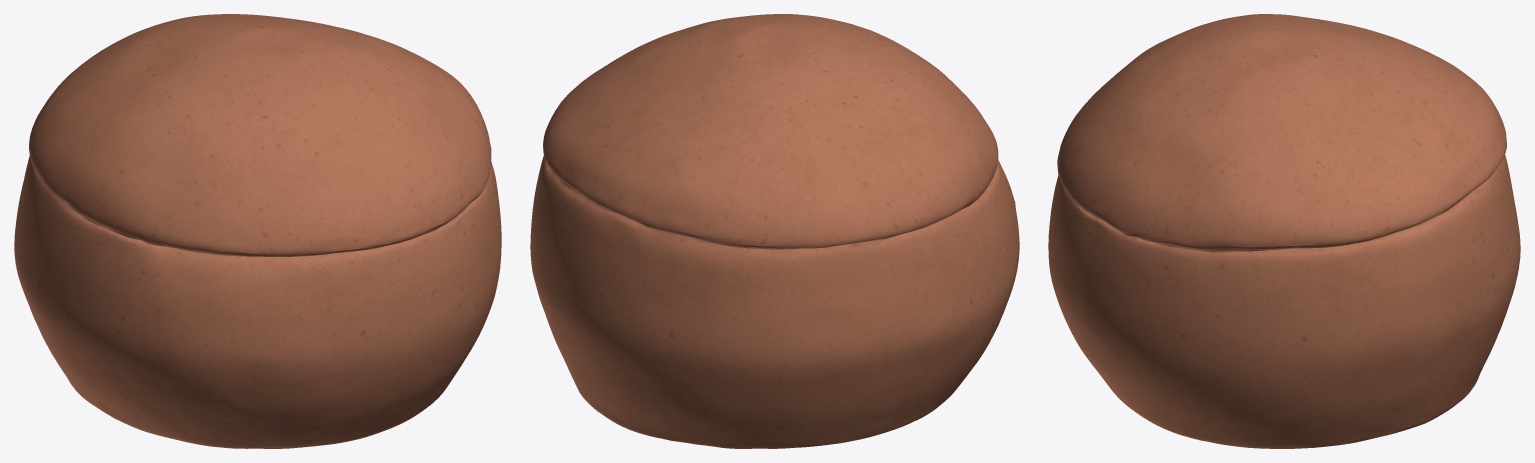
File: incense-box-raw.glb
3 renders of one model, left to right at view 1: azimuth 30°, elevation 25°; view 2: azimuth 150°, elevation 25°; view 3: azimuth 270°, elevation 25°, orthographic. The views are drawn at different scales.
Bounding box in the file's own units: 0.0674 × 0.0522 × 0.0673.
Materials: 1 (1 with a texture image).
